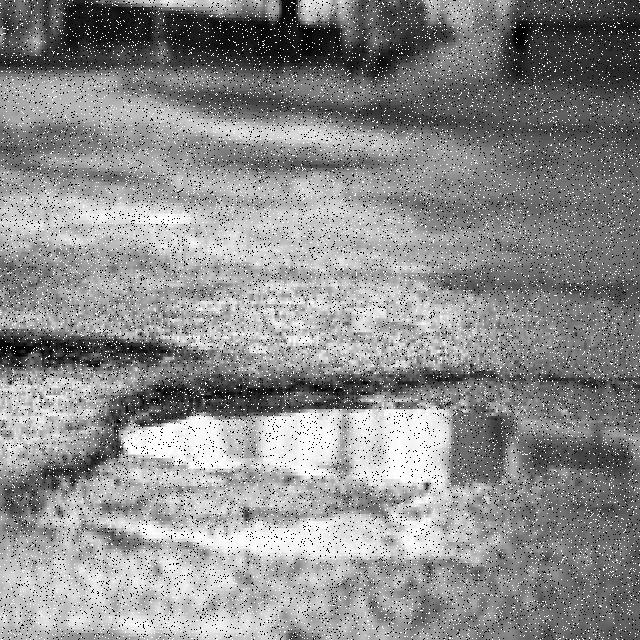pothole: (70, 371, 640, 546)
